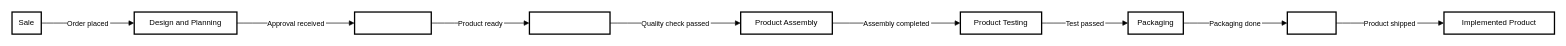
Image size: 1566x46. Some labels were removed from this diagram. Each missing label, with the box of its shape:
Manufacturing: (354, 11, 432, 34)
Quality Control: (528, 11, 610, 34)
Shipping: (1286, 11, 1336, 34)
